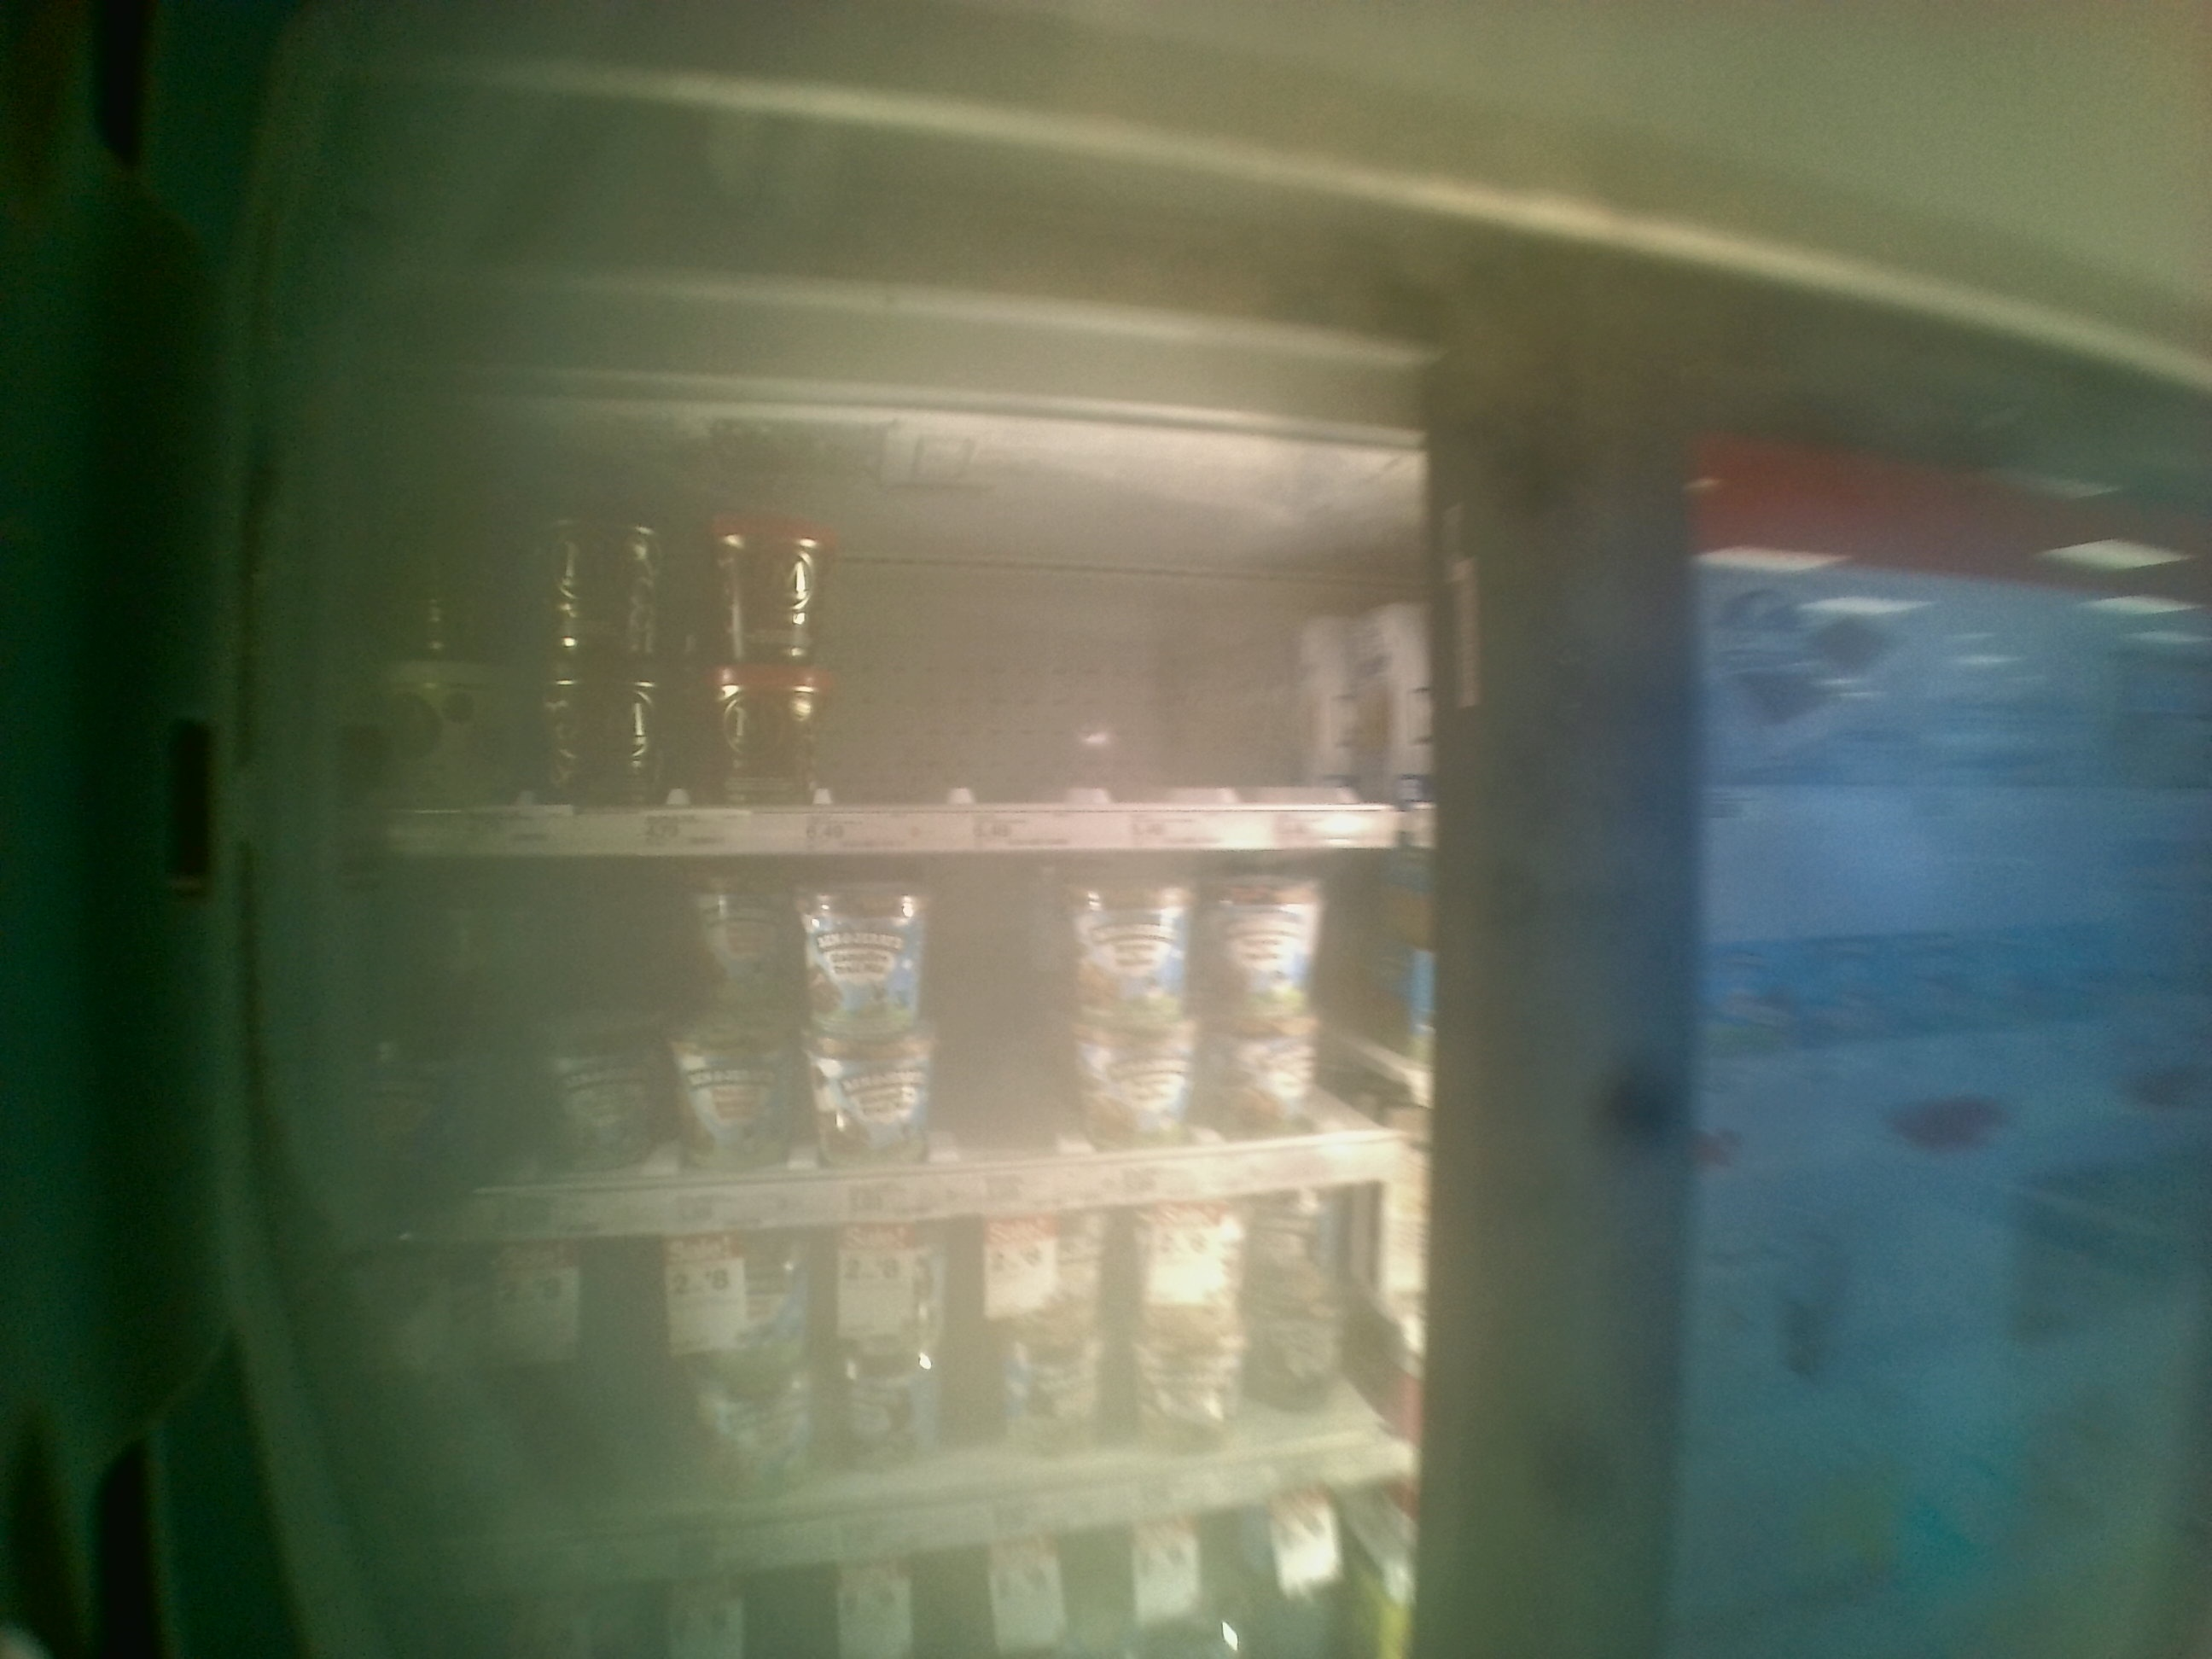shelf: (324, 437, 1453, 857), (334, 857, 1440, 1241)
